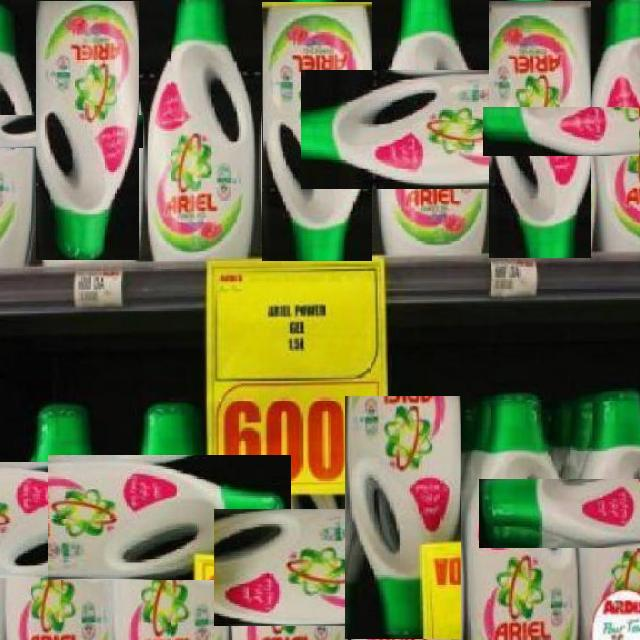Detergent: (301, 70, 560, 189), (47, 455, 291, 580), (143, 0, 258, 263), (344, 396, 466, 639), (305, 69, 558, 184), (261, 1, 372, 261), (461, 395, 577, 639), (36, 0, 139, 260), (489, 0, 591, 258), (0, 462, 177, 578), (214, 509, 358, 626), (479, 479, 640, 548), (484, 107, 640, 156), (0, 115, 148, 148)
